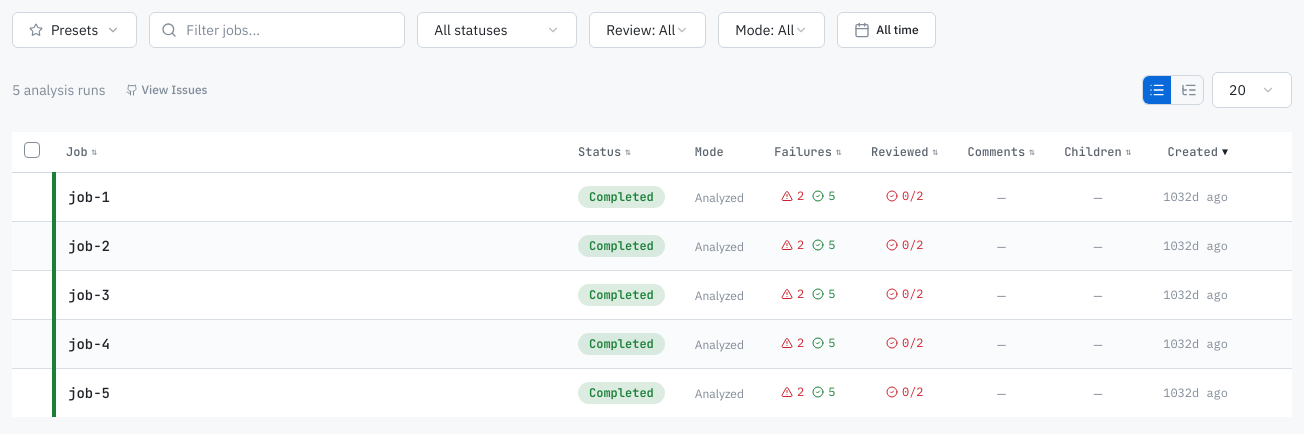
Scenario: DashboardPage presentation controls › shows expand/collapse only in grouped mode
Check: the element with test id "dashboard-summary" is shown, box top-left (12, 72), bottom-right (1292, 108)
Check: the button "Expand All" is not shown
Click the button named "Grouped by job view" at (1189, 90), box top-left (1175, 76), bottom-right (1203, 104)
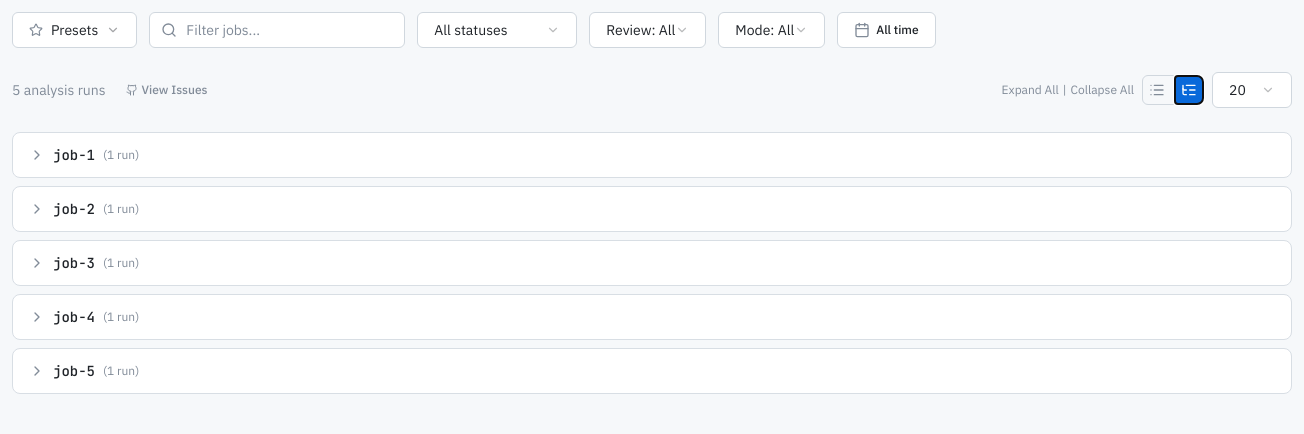
Check: the element with test id "dashboard-summary" is shown, box top-left (12, 72), bottom-right (1292, 108)
Check: the button "Expand All" is shown, box top-left (1002, 82), bottom-right (1059, 98)
Check: the button "Collapse All" is shown, box top-left (1071, 82), bottom-right (1134, 98)
